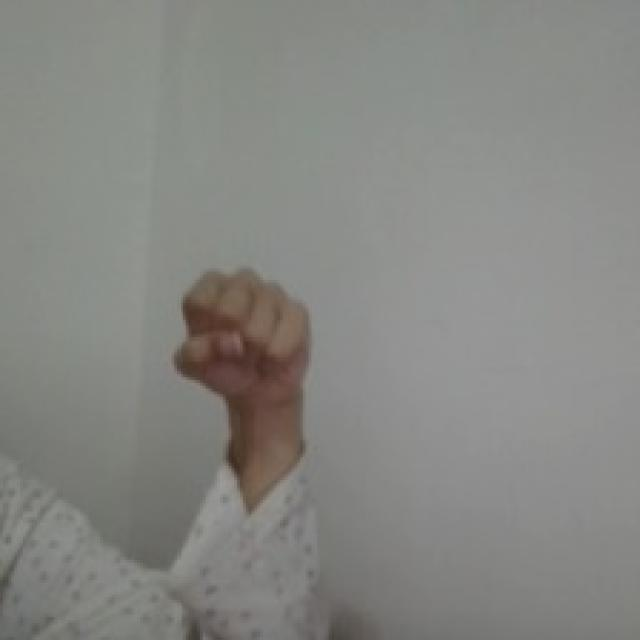yes: (168, 262, 317, 414)
